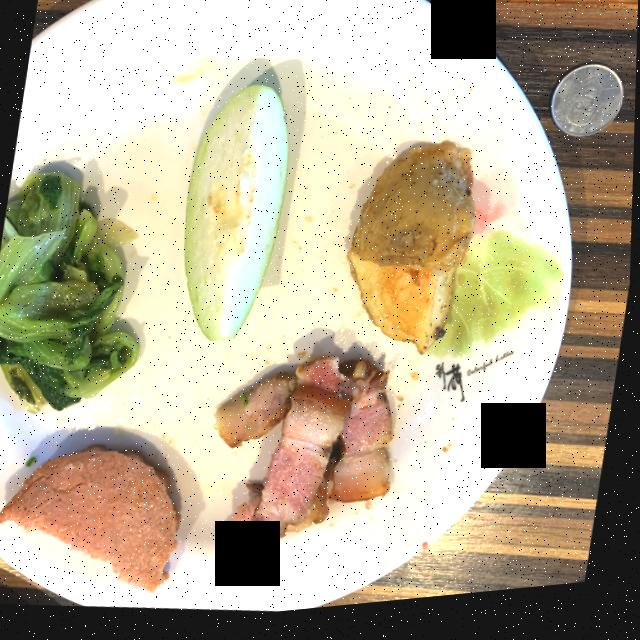Spam: (0, 452, 182, 595)
coin: (550, 76, 623, 148)
fried potato: (348, 150, 476, 363)
grilled pork: (216, 362, 394, 564)
guava -sliced-: (184, 90, 289, 345)
mustard greens: (0, 173, 140, 413)
